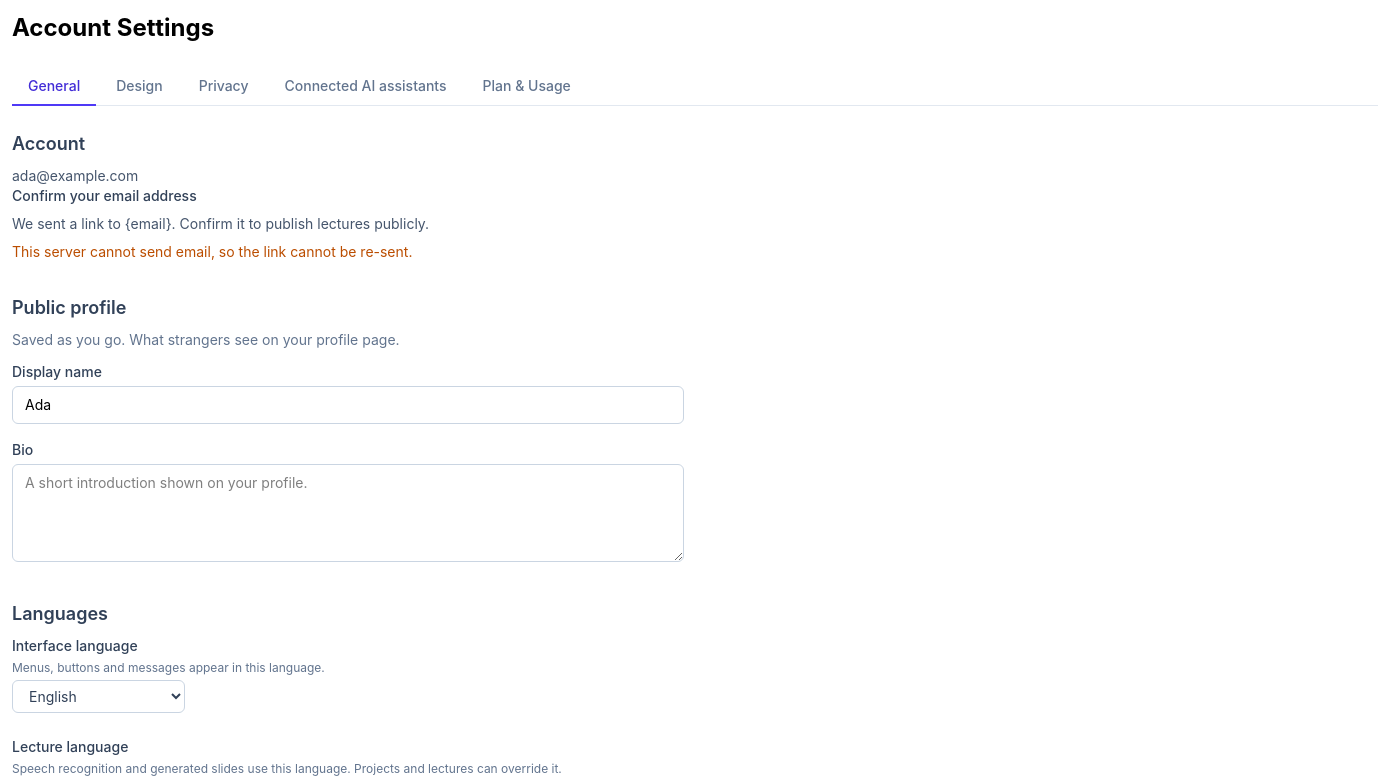
Scenario: AccountSettingsPage › offers a Connected AI assistants tab that renders the panel
This screenshot has width=1378, height=780.
Click the tab "Connected AI assistants". click: (366, 87)
box: [268,68,463,106]
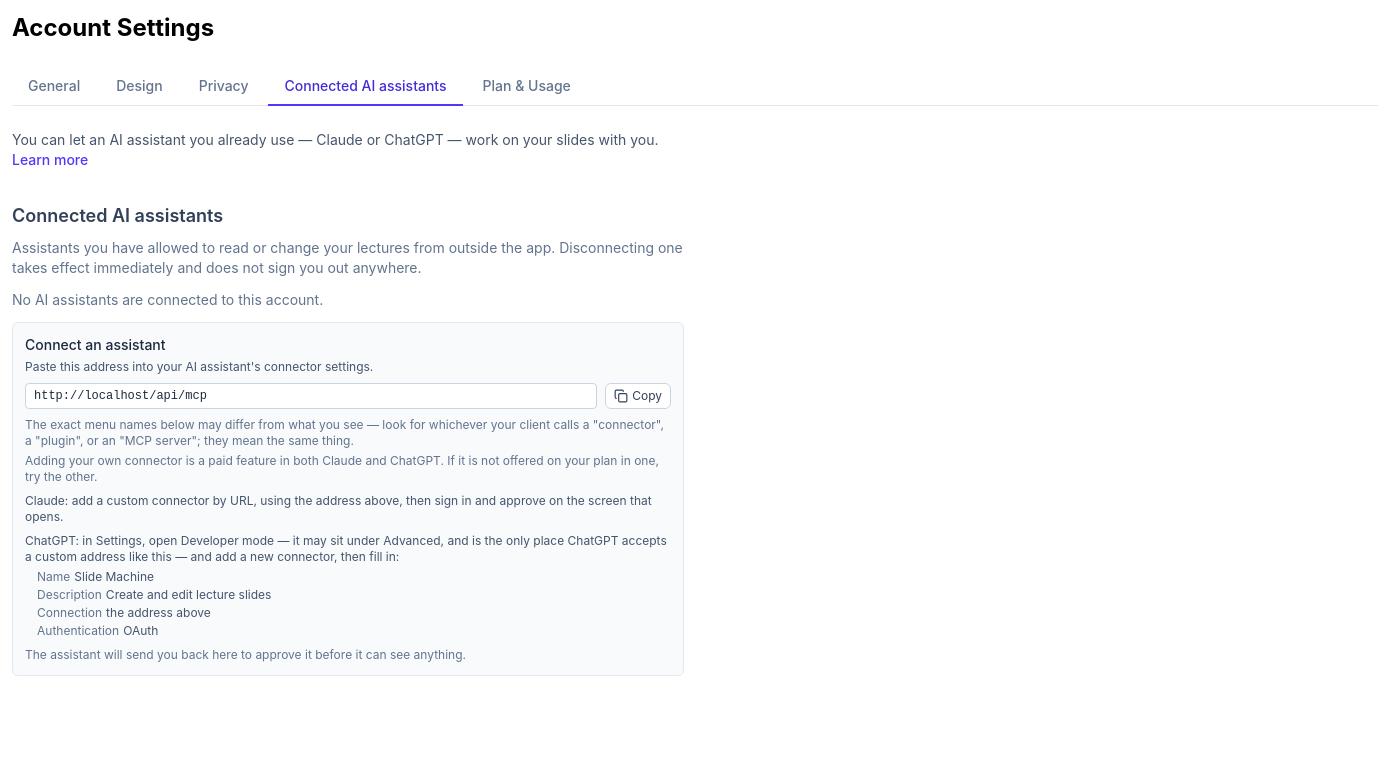
Expected: the text "No AI assistants are connected to this account." is shown, [12,291,323,308]
